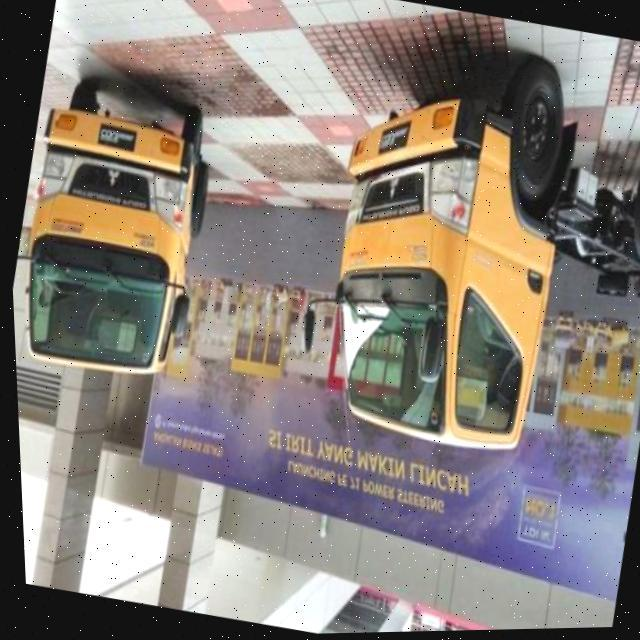truck: (271, 28, 640, 491), (2, 66, 226, 386)
